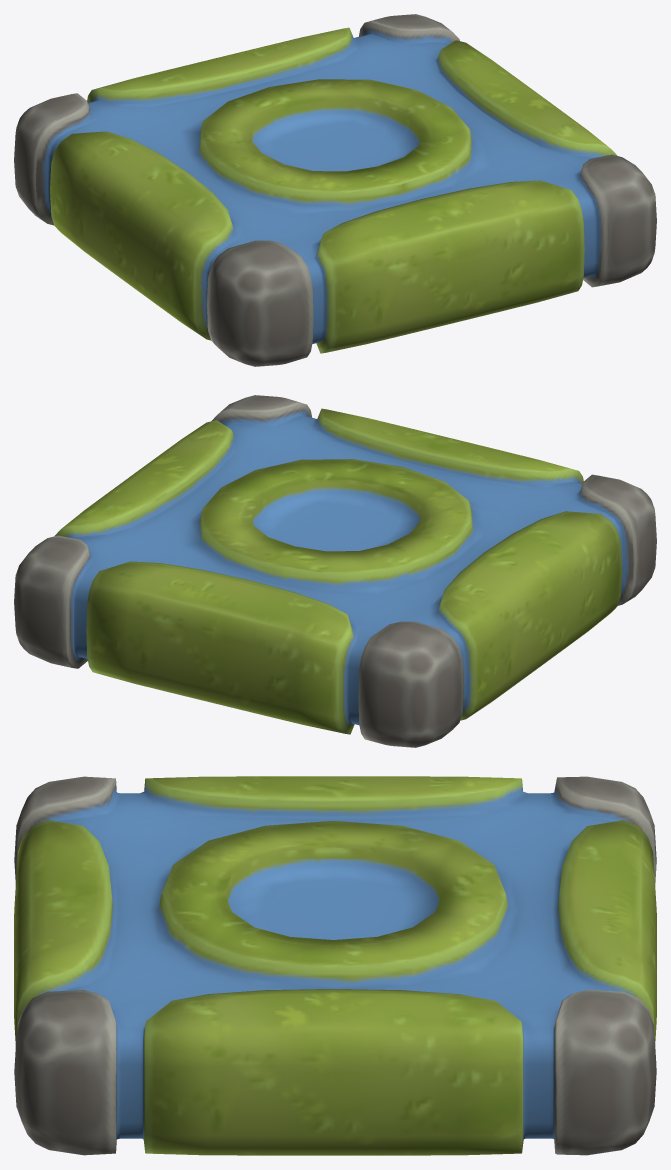
The model's file is arena block 4.fbx.
3 renders of one model, top to bottom at view 1: azimuth 30°, elevation 25°; view 2: azimuth 150°, elevation 25°; view 3: azimuth 270°, elevation 25°, orthographic. The views are drawn at different scales.
Parts seen in each view (by area): view 1: arena block 4 lp.002; view 2: arena block 4 lp.002; view 3: arena block 4 lp.002.
Part boxes in pixels (x1,y1,x2,y2): arena block 4 lp.002: (14,14,656,366); arena block 4 lp.002: (14,395,656,747); arena block 4 lp.002: (14,776,656,1155).
Size of the model in its own units: 200 by 49.82 by 200.
